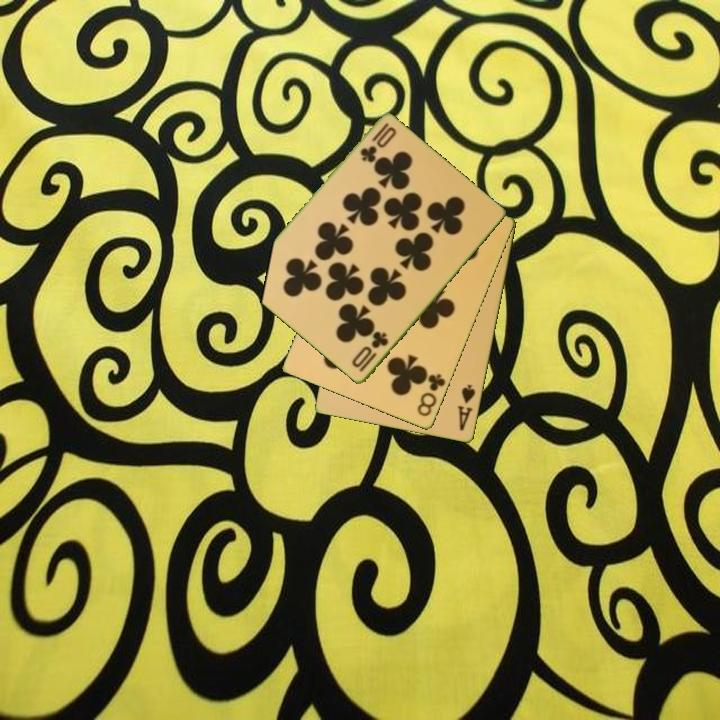10c: (348, 328, 392, 375), (357, 120, 392, 166)
8c: (414, 370, 448, 420)
As: (454, 381, 478, 434)
